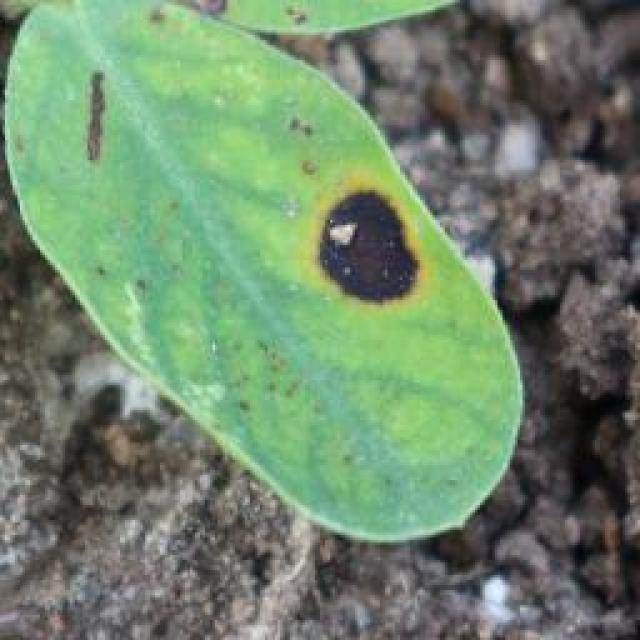Yellowish: (30, 5, 530, 412)
